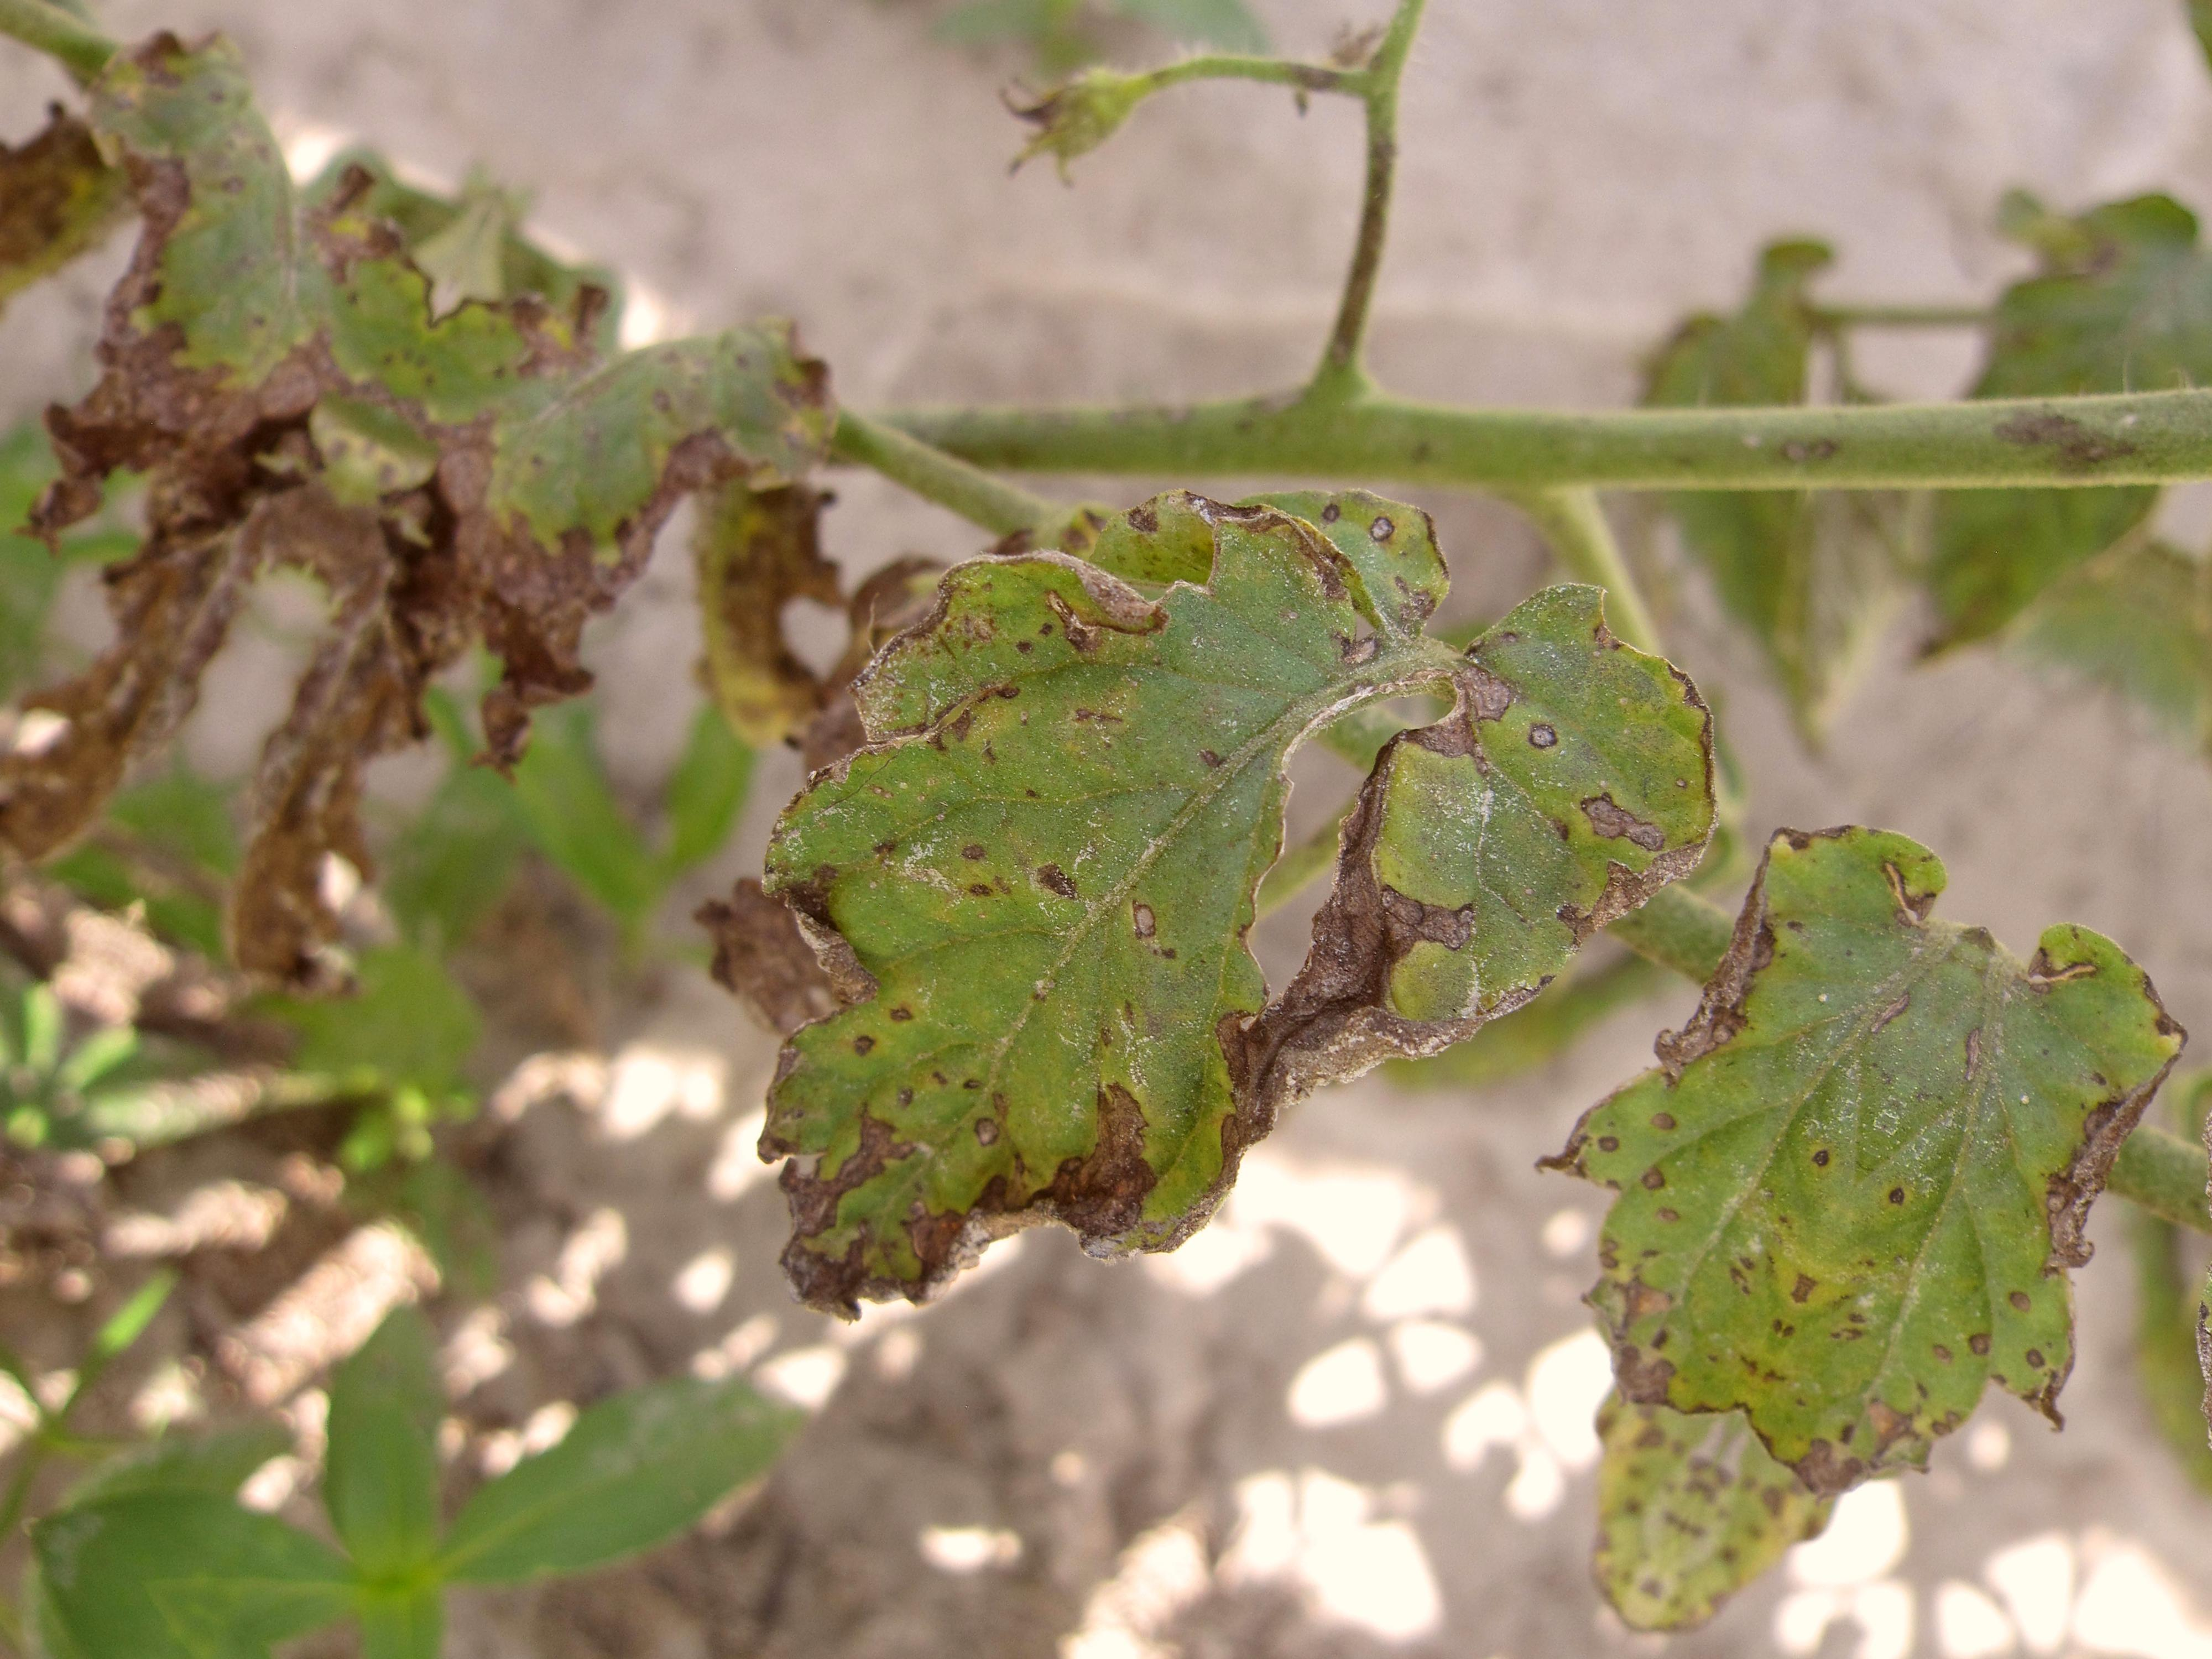Tomato leaf bacterial spot: (540, 204, 1827, 1556)
